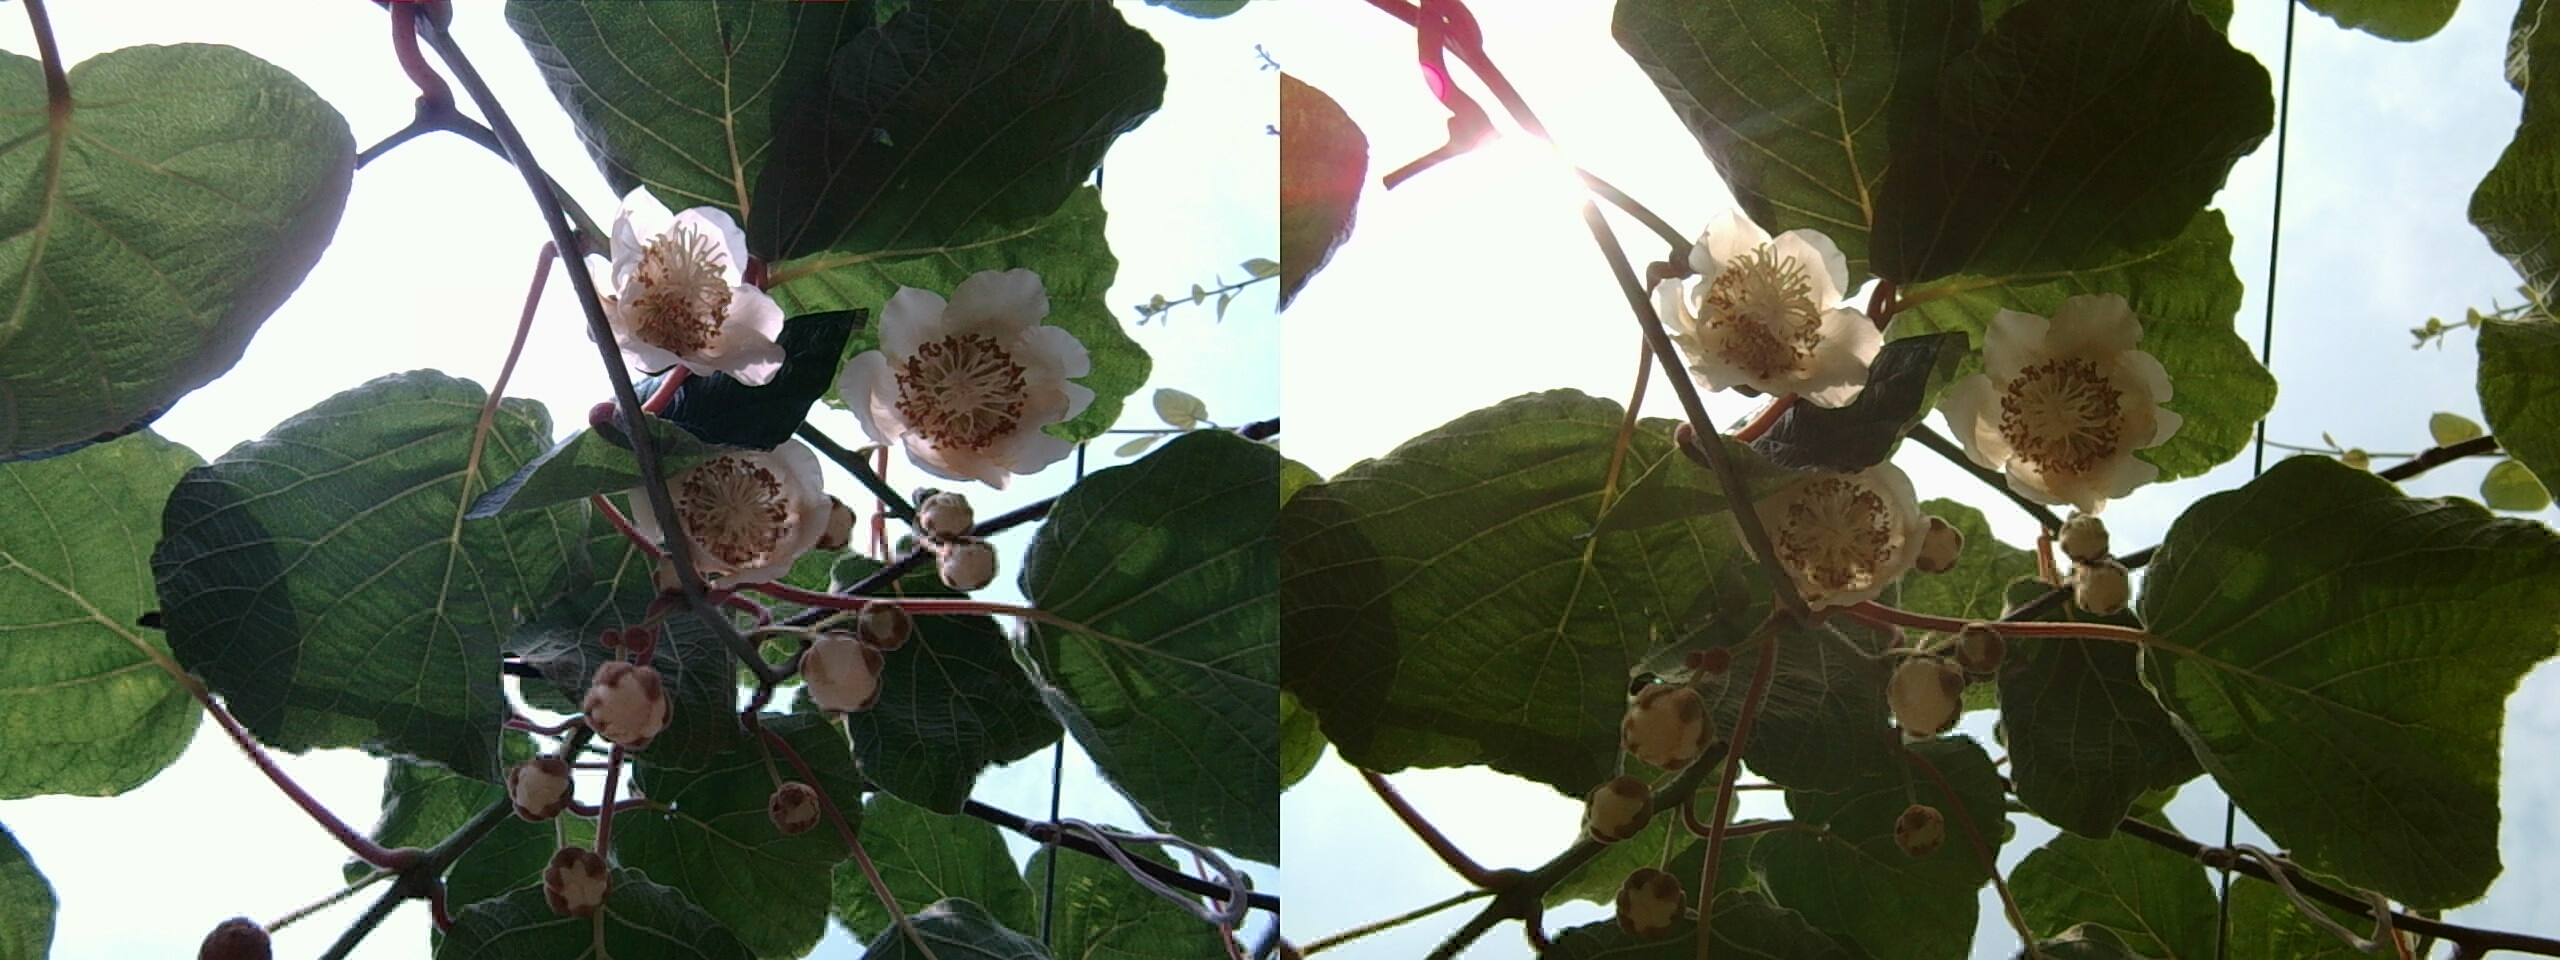flower: (1938, 276, 2201, 524), (834, 260, 1110, 491), (1651, 202, 1881, 410), (593, 193, 784, 384), (1734, 459, 1941, 606), (645, 446, 846, 578)
